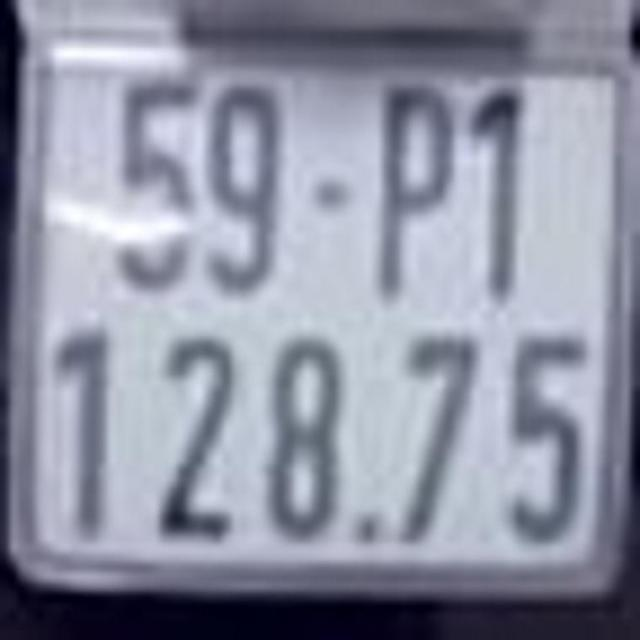1: (50, 305, 118, 538), (464, 70, 530, 308)
2: (157, 314, 236, 549)
5: (513, 323, 594, 544), (118, 80, 198, 287)
7: (396, 322, 480, 548)
8: (264, 330, 343, 545)
9: (202, 70, 282, 300)
P: (371, 74, 458, 305)
